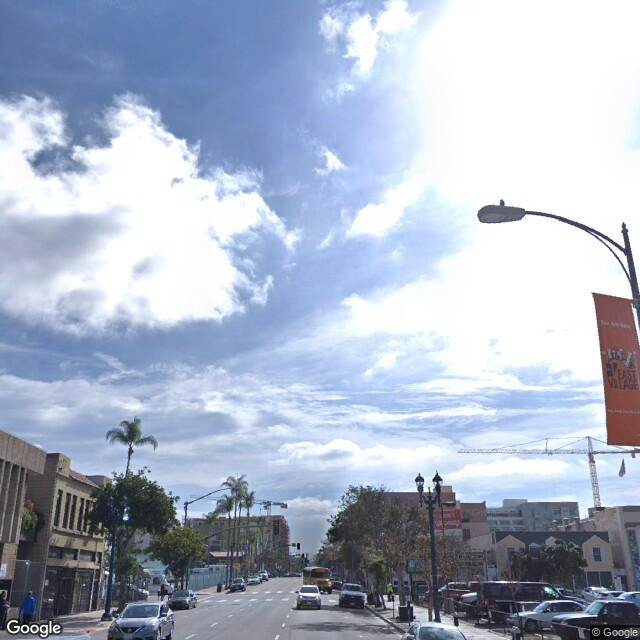light: (477, 200, 528, 232), (415, 468, 446, 501)
